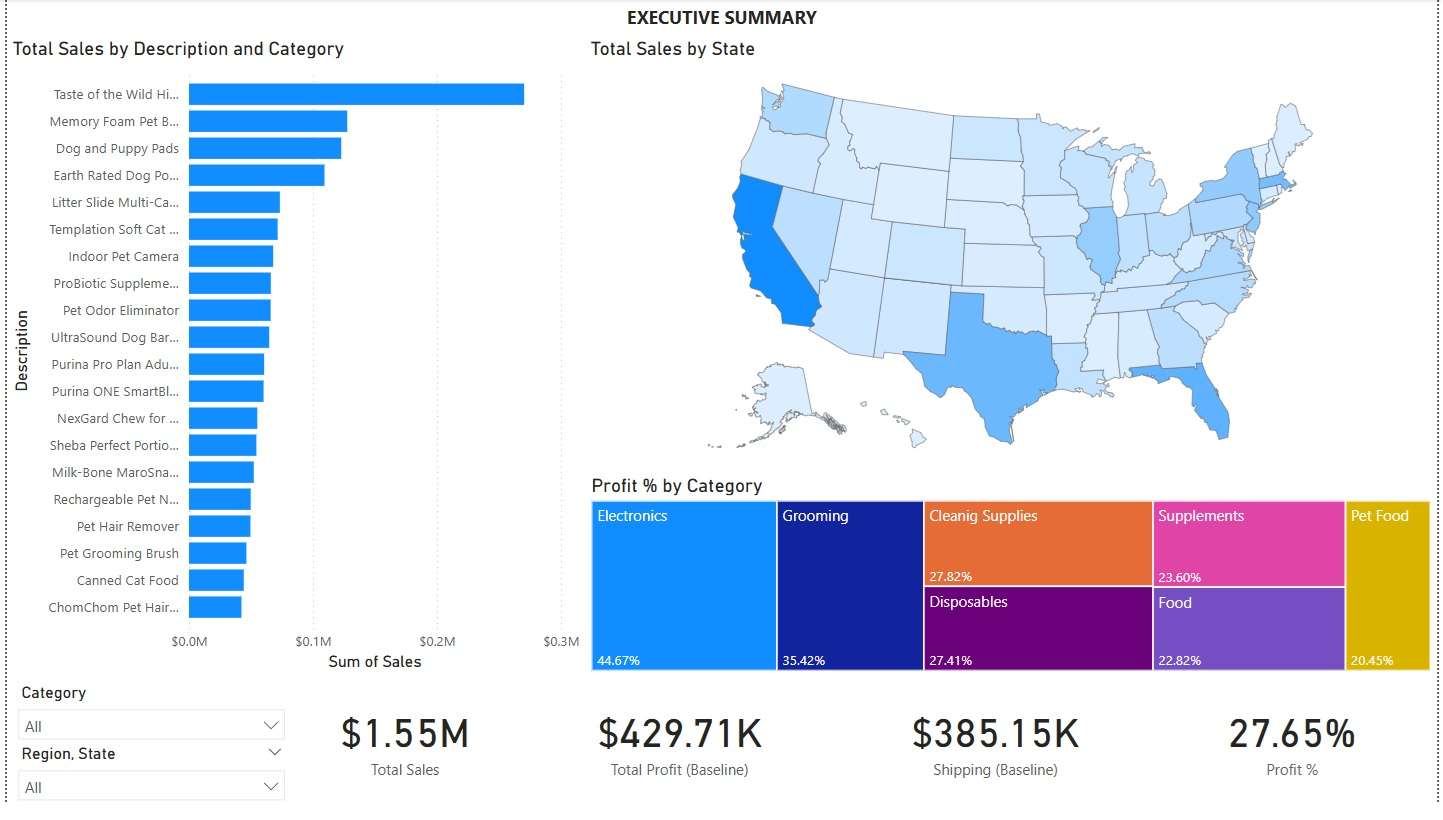

The page's visual inventory and layout, read from the dashboard file:
{"tool":"powerbi","page":{"name":"Executive Summary","canvas":[1280,720],"ordinal":0},"visuals":[{"type":"shapeMap","title":"Total Sales by State","fields":{"Category":["States Mapping.State"],"Value":["Sum(Market Basket.Sales)"]},"box":[518,34,762,391],"z":0},{"type":"slicer","fields":{"Values":["States Mapping.Region","States Mapping.State"]},"box":[0,662.4,259,57.6],"z":1000},{"type":"card","title":"Total Sales","fields":{"Values":["Sum(Sales.Sales)"]},"box":[259,606.6,196.4,113.4],"z":2000},{"type":"card","fields":{"Values":["Sum(Sales.Profit (Baseline))"]},"box":[455.4,606.6,292.9,113.4],"z":3000},{"type":"card","fields":{"Values":["New Measures.Profit %"]},"box":[1022.6,606.6,257.4,113.4],"z":4000},{"type":"card","fields":{"Values":["Sales.Shipping (Baseline)"]},"box":[748.4,606.6,274.3,113.4],"z":5000},{"type":"barChart","title":"Total Sales by Description and Category","fields":{"Category":["Sales.Description"],"Y":["Sum(Sales.Sales)"]},"box":[0,34,518,572],"z":6000},{"type":"slicer","fields":{"Values":["Products.Category"]},"box":[0,608.3,259,57.6],"z":7000},{"type":"treemap","fields":{"Values":["New Measures.Profit %"],"Group":["Products.Category","Products.Description"]},"box":[518.1,425,761.9,181.2],"z":8000},{"type":"textbox","box":[0,0,1280,34],"z":9000}]}

Visuals, with their boxes in screenshot pixels (x1, y1, x2, y2), scaled from the page's 1280x720 canvas onto the 1443x820 screenshot:
"Total Sales by State" shapeMap: l=584, t=39, r=1442, b=484
slicer - States Mapping.Region x States Mapping.State: l=0, t=754, r=292, b=819
"Total Sales" card: l=292, t=691, r=513, b=819
card - Sum(Sales.Profit (Baseline)): l=513, t=691, r=844, b=819
card - New Measures.Profit %: l=1153, t=691, r=1442, b=819
card - Sales.Shipping (Baseline): l=844, t=691, r=1153, b=819
"Total Sales by Description and Category" barChart: l=0, t=39, r=584, b=690
slicer - Products.Category: l=0, t=693, r=292, b=758
treemap - New Measures.Profit % x Products.Category: l=584, t=484, r=1442, b=690
textbox: l=0, t=0, r=1442, b=39
